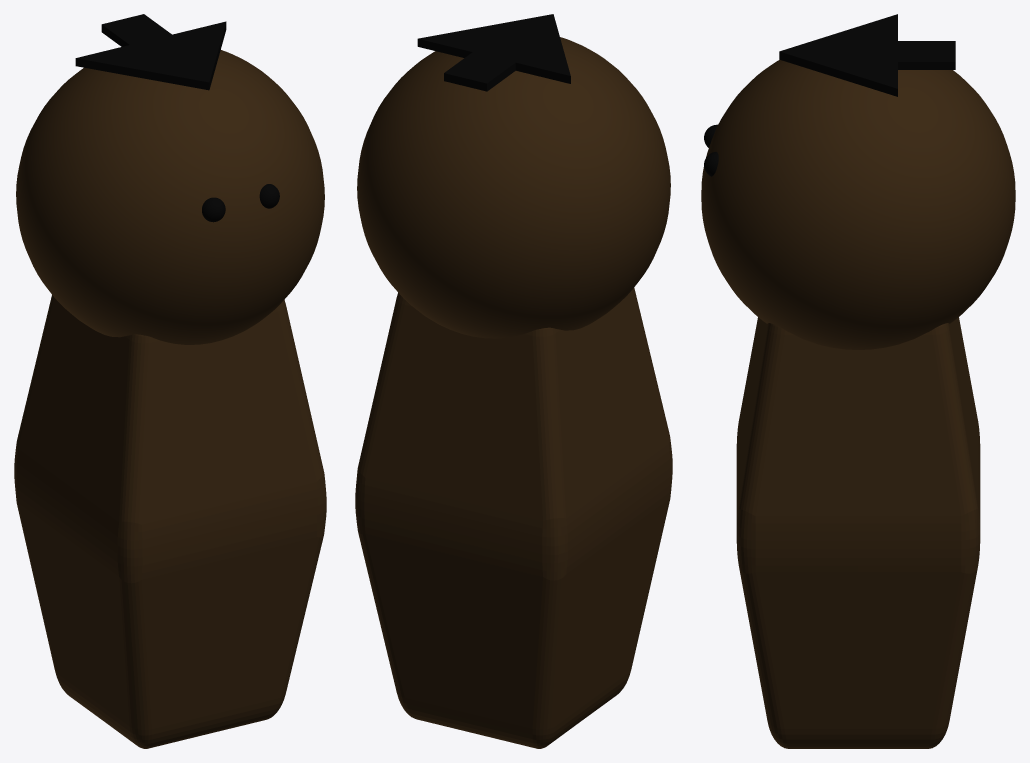
Rendered from 3brown.obj.
The picture shows the model from 3 angles, left to right: view 1: azimuth 30°, elevation 25°; view 2: azimuth 150°, elevation 25°; view 3: azimuth 270°, elevation 25°; orthographic projection.
Visible parts, largest first — view 1: Cube.006_Cube.013; view 2: Cube.006_Cube.013; view 3: Cube.006_Cube.013.
Part boxes in pixels (left/top/right/bottom): Cube.006_Cube.013: left=14, top=14, right=326, bottom=748; Cube.006_Cube.013: left=355, top=14, right=672, bottom=748; Cube.006_Cube.013: left=701, top=14, right=1015, bottom=748.
Bounding box in the file's own units: 0.2062 × 0.482 × 0.2057.
